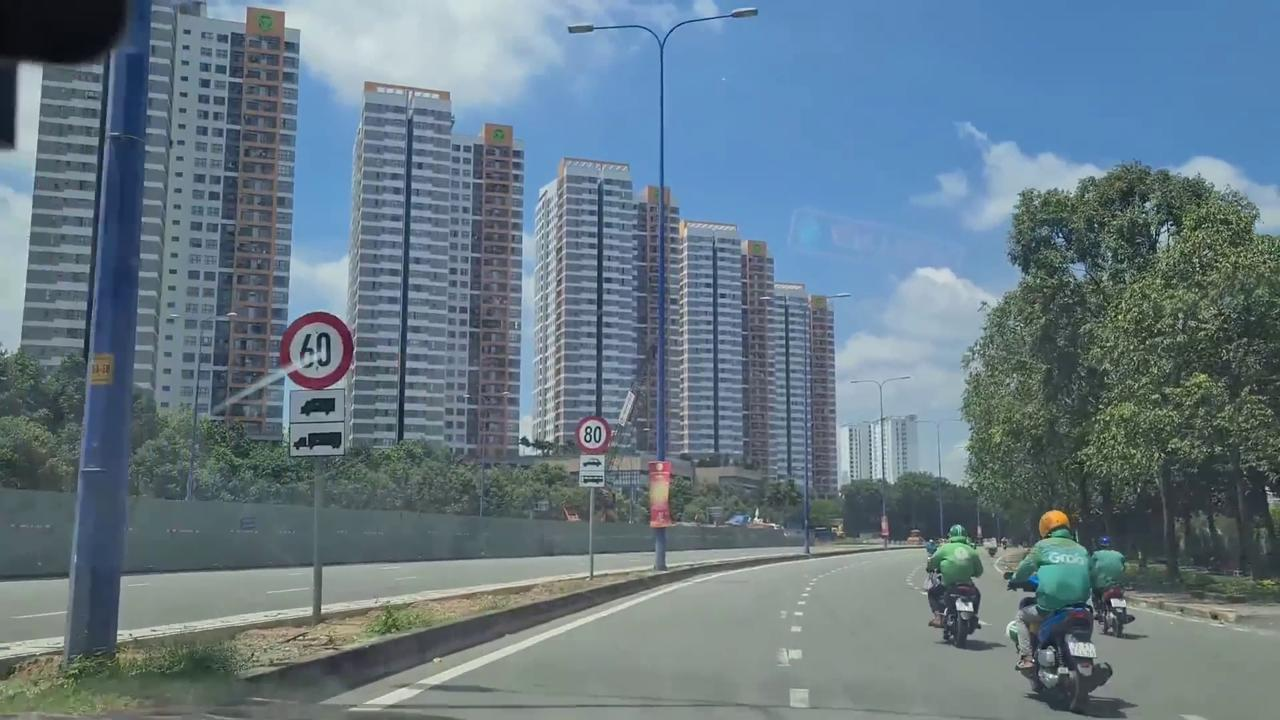Biển phụ: (286, 388, 348, 456), (578, 454, 605, 486)
GIơi hạn tốc độ 60Km/h: (278, 308, 354, 390)
Giới hạn tốc độ 80Km/h: (574, 414, 612, 456)
